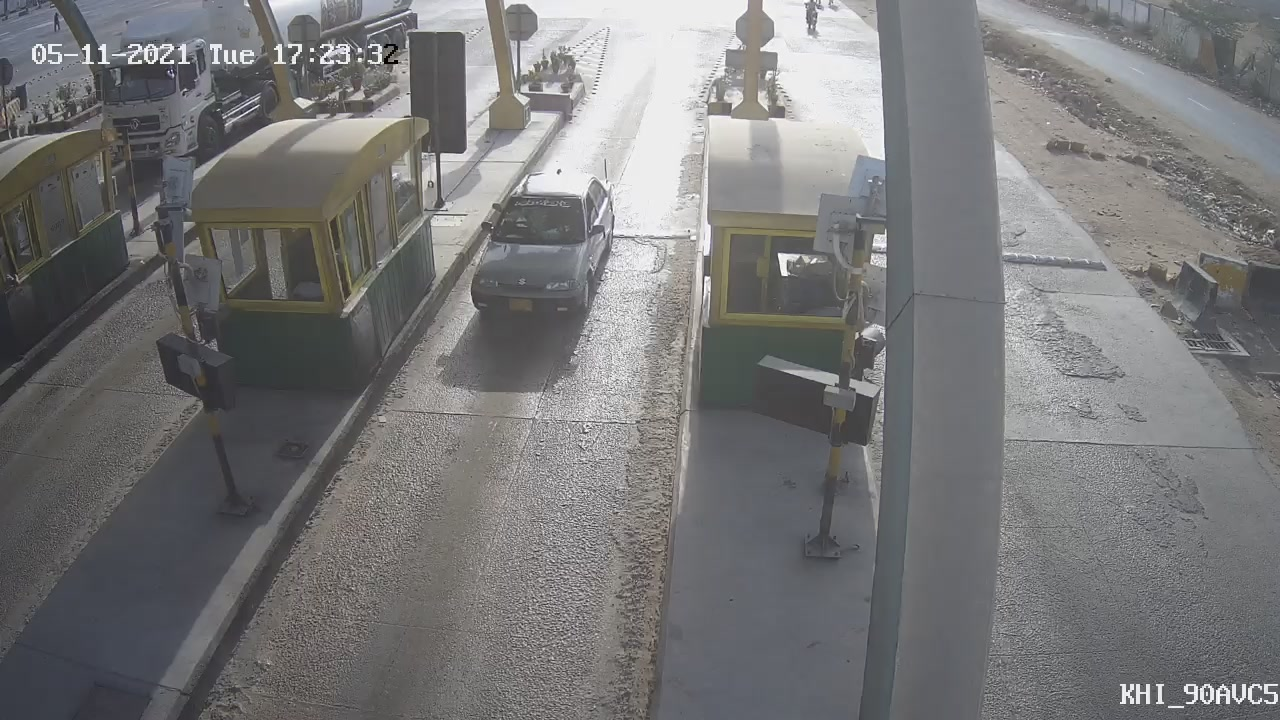F1: (442, 149, 634, 346)
